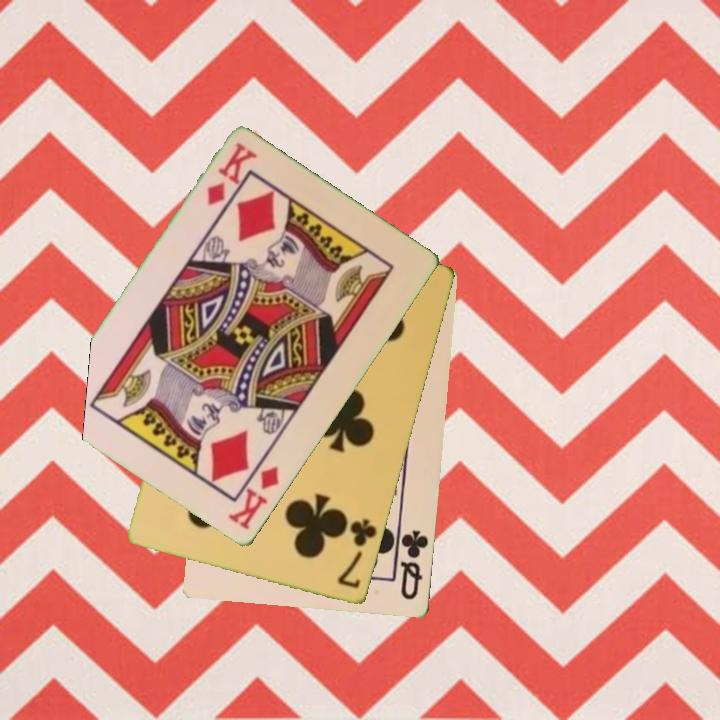7c: (334, 515, 380, 592)
Kd: (224, 463, 282, 534), (203, 139, 259, 210)
Qc: (393, 523, 432, 603)
